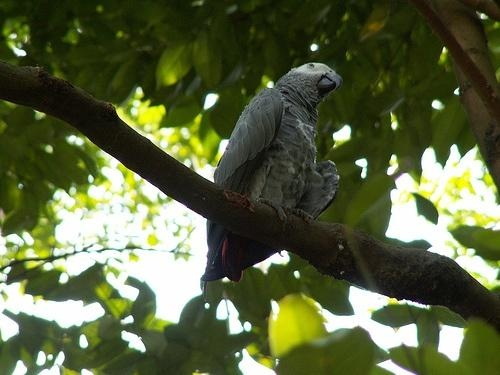bird: (202, 63, 343, 286)
